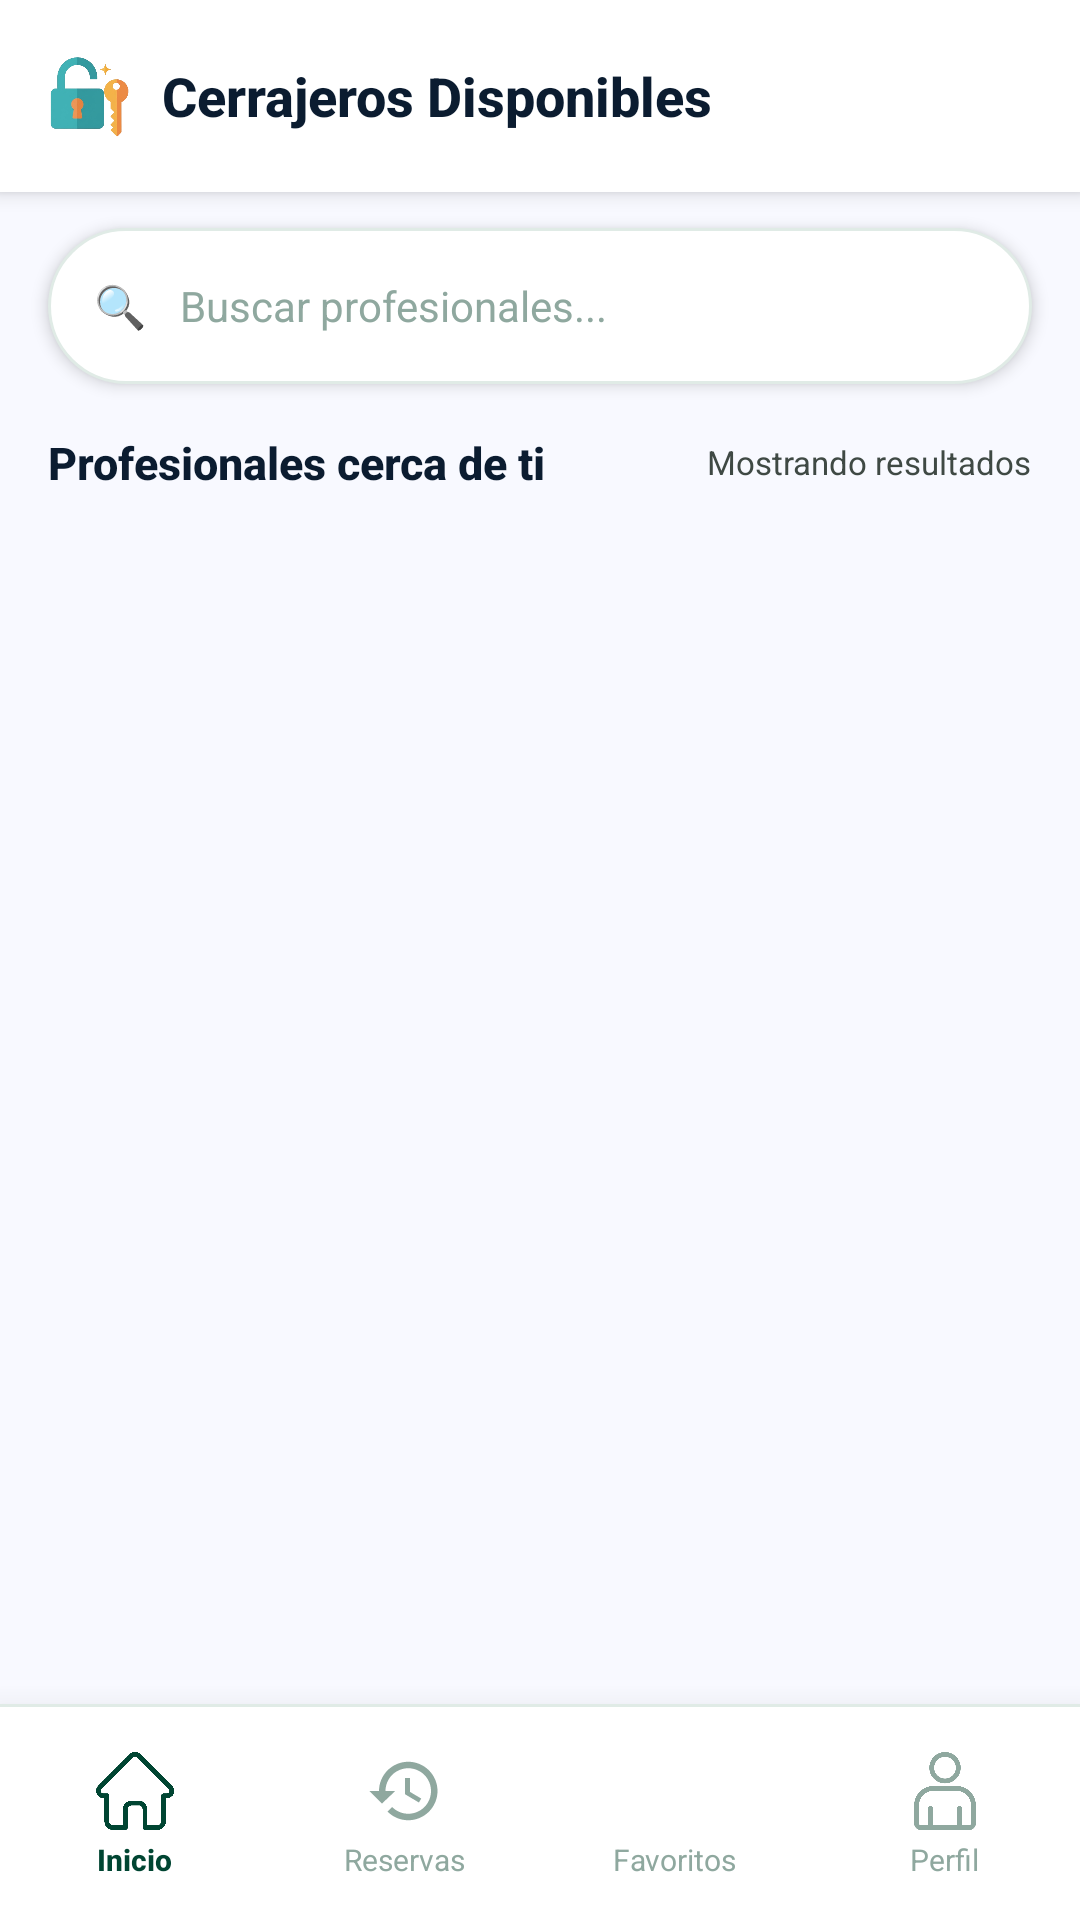

Named icons in this screenshot (1080 × 1920) and their bounding boxes, (x1,y1,x2,y2):
historial: (370,1761,438,1821)
